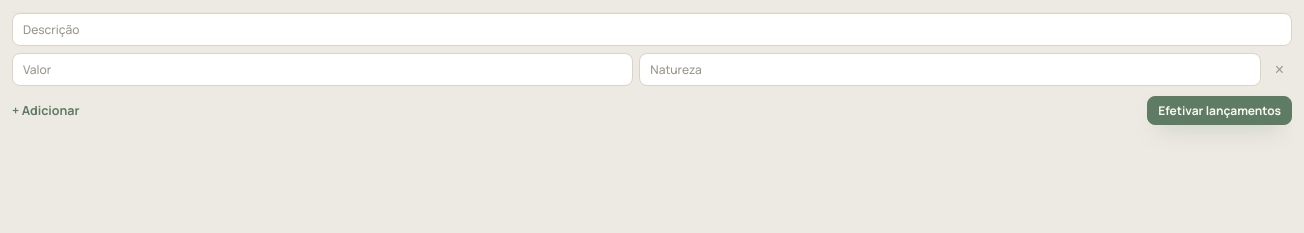
FormVR — adicionar/remover linhas (TL-69, TL-70) › clicar em "+ Adicionar" acrescenta uma nova linha vazia
Step 1. Click the button "+ Adicionar" → (46, 110), box [12, 102, 80, 119]
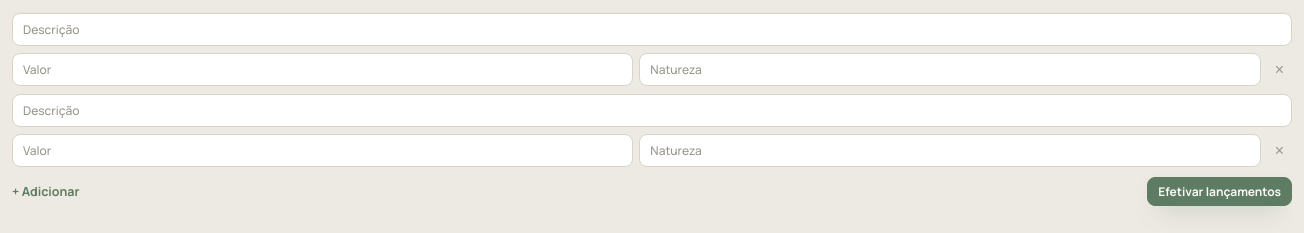
Expected: the field named "Valor da despesa 1" is shown, [12, 53, 633, 86]
Expected: the field named "Valor da despesa 2" is shown, [12, 134, 633, 167]
